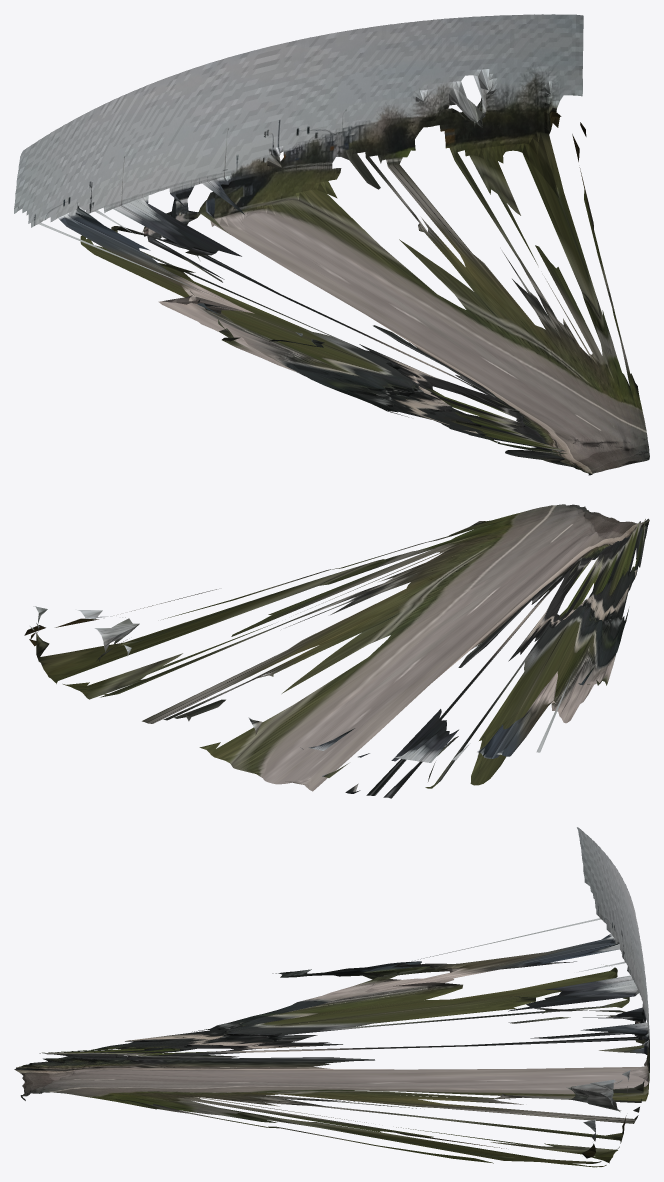
3 views of the same model, one above another, from view 1: azimuth 30°, elevation 25°; view 2: azimuth 150°, elevation 25°; view 3: azimuth 270°, elevation 25° (orthographic). The views are drawn at different scales.
Visible parts, largest first — view 1: defaultobject; view 2: defaultobject; view 3: defaultobject.
Part boxes in pixels (<box>): defaultobject: <box>14,14,649,475</box>; defaultobject: <box>24,504,649,798</box>; defaultobject: <box>14,827,649,1167</box>.
Size of the model in its own units: 41.03 by 11.71 by 44.92.
1 material, 1 textured.
